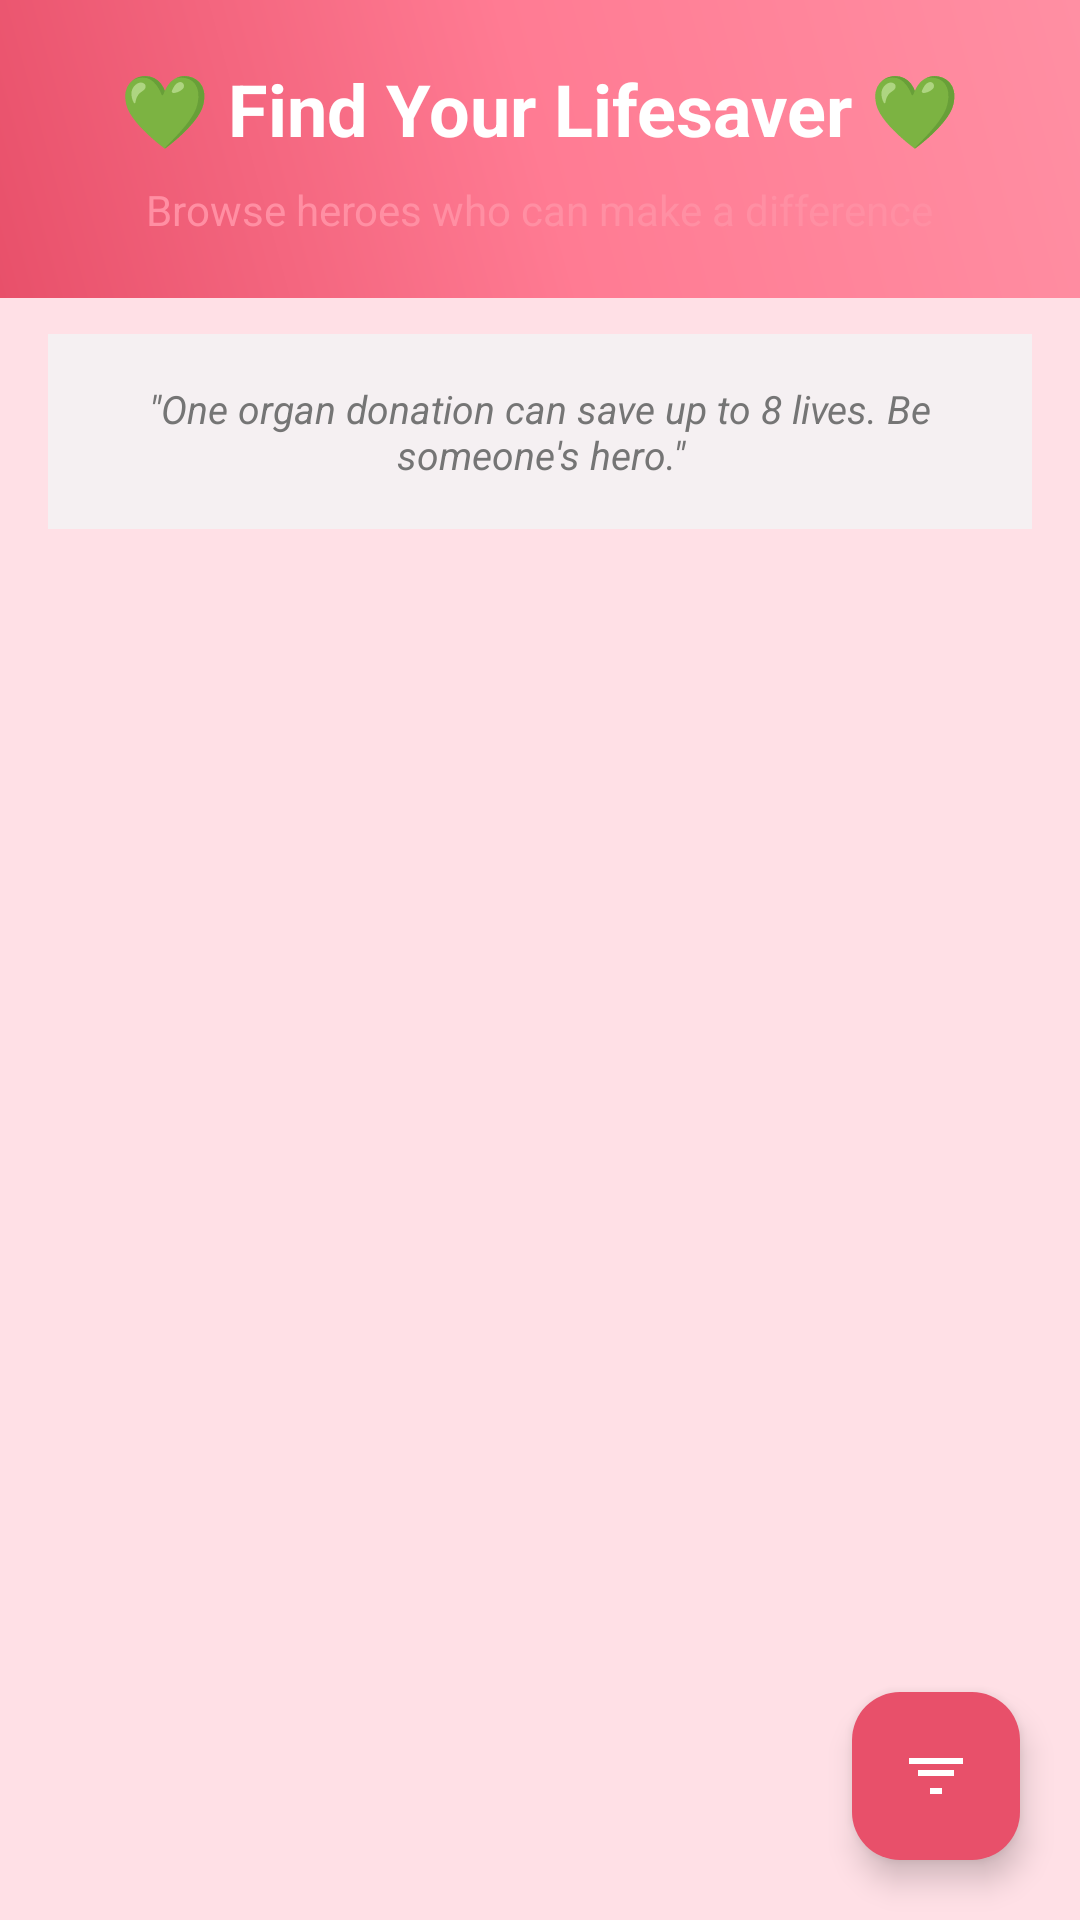

Where icons sit on this 1080px×1920px app screen, as box(x1, y1, x2, y2):
Filter donors: box(852, 1692, 1020, 1860)
